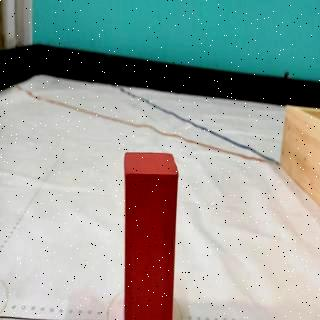redbox: (122, 151, 180, 320)
